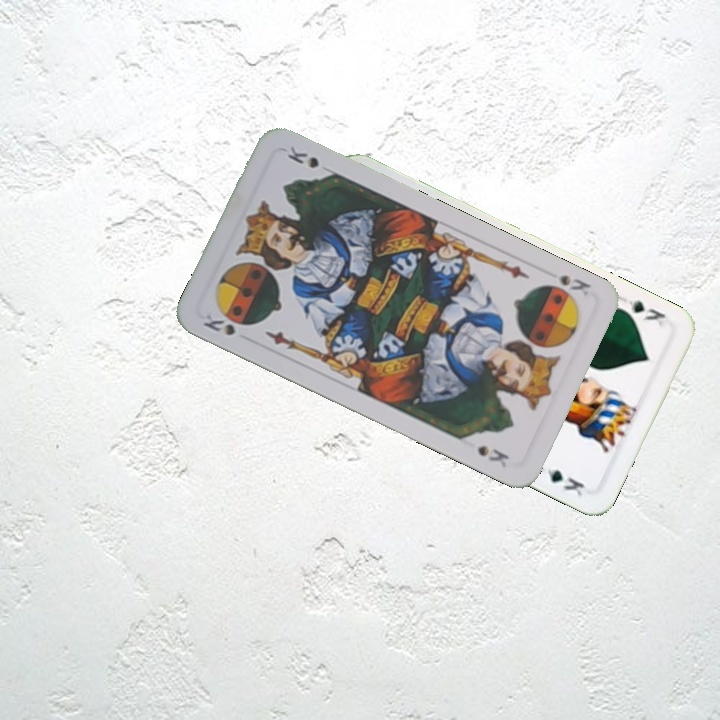GK: (624, 295, 668, 329)
SK: (199, 309, 238, 338), (554, 270, 593, 298)
